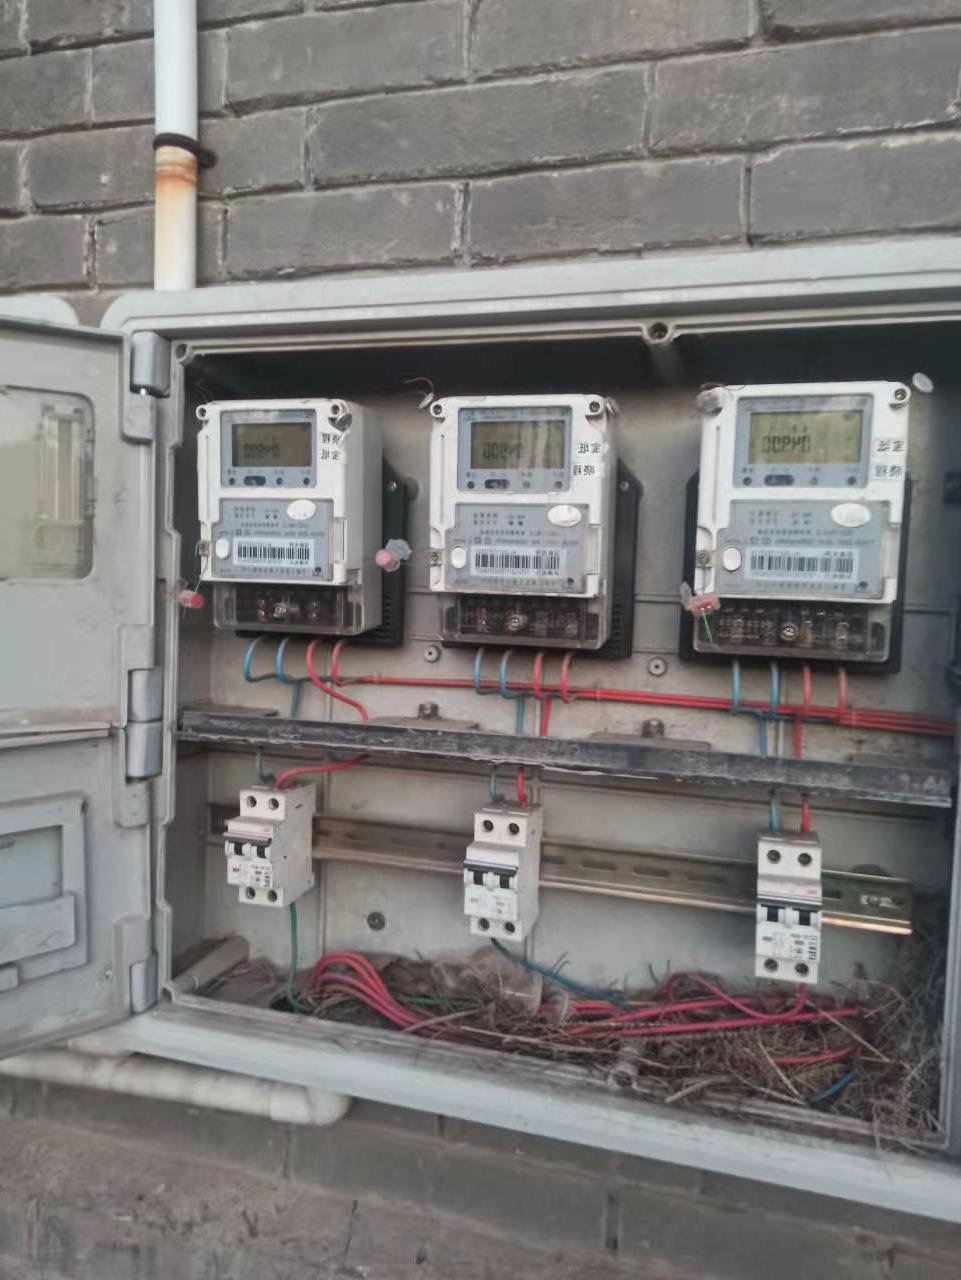digital: (695, 385, 903, 601), (433, 396, 601, 594), (197, 397, 343, 582)
